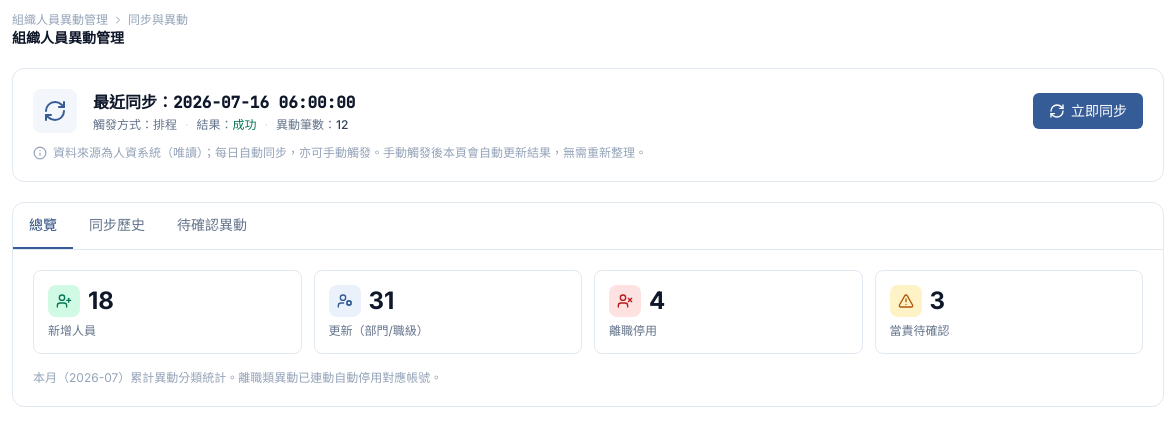
Test case: OrgSyncPage — 同步狀態/歷史（US-011 回歸，移入頁籤後） › G-ADM-012 同步歷史失敗列展開錯誤 → 使用 alert-octagon 圖示
Click the button "同步歷史": [117, 226] box [73,203,161,249]
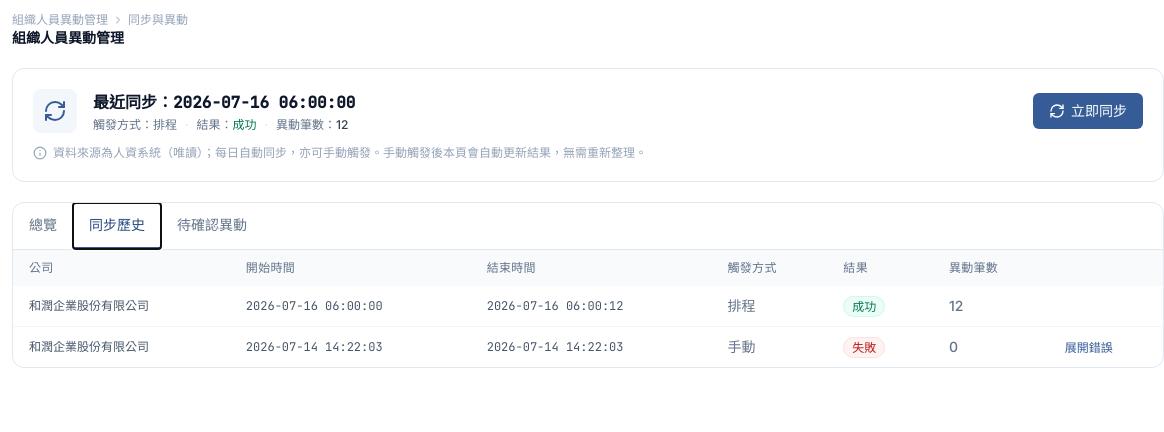
Click the button "展開錯誤": [1089, 348] box [1065,340,1113,356]
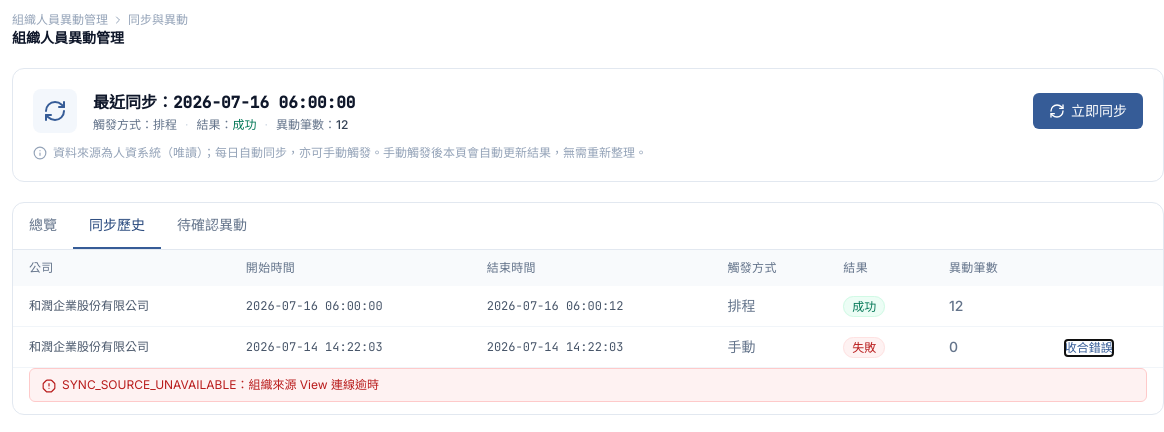
Result: the icon with class "lucide-octagon-alert" is shown at [42,379,56,393]
